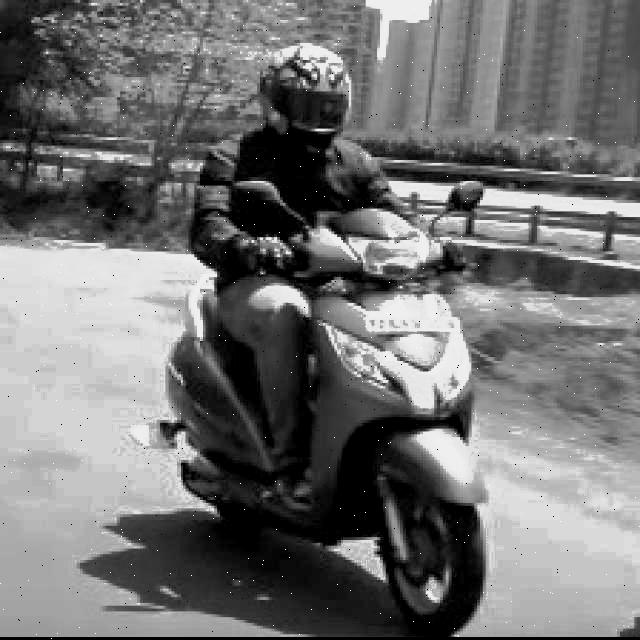Bike: (150, 216, 488, 630)
